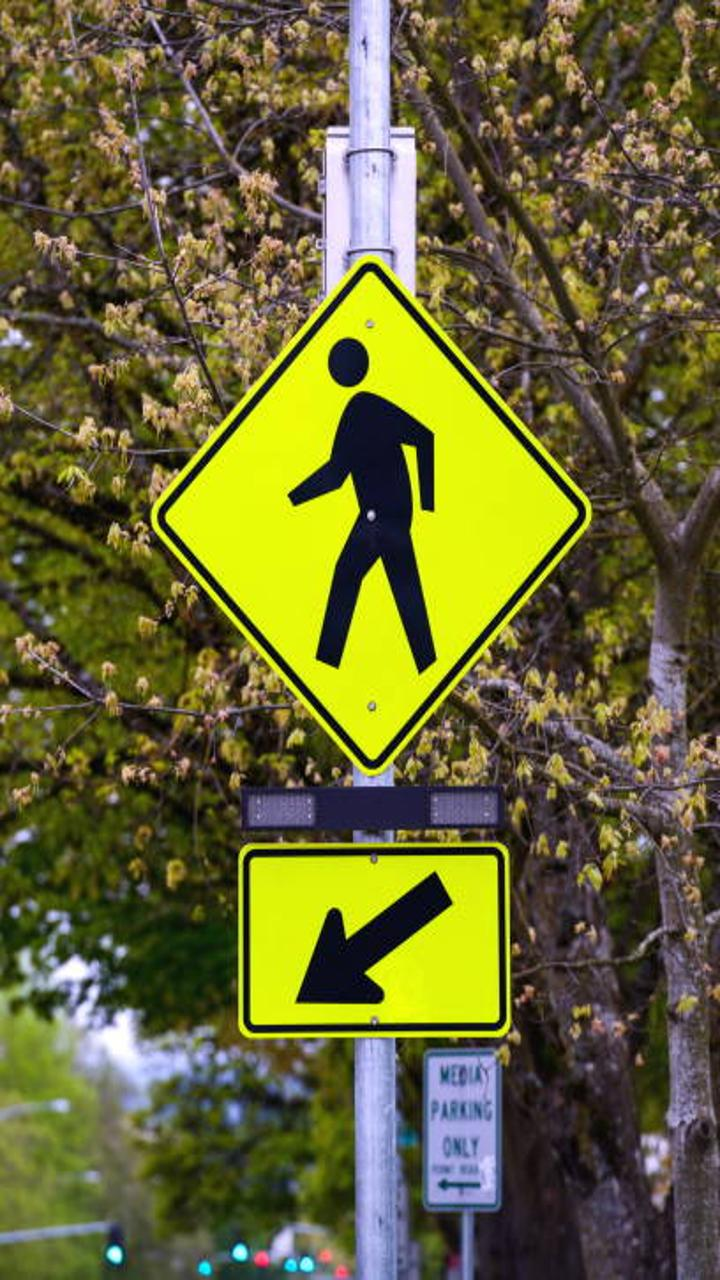Traffic sign: (131, 273, 599, 772), (206, 812, 502, 1072)
